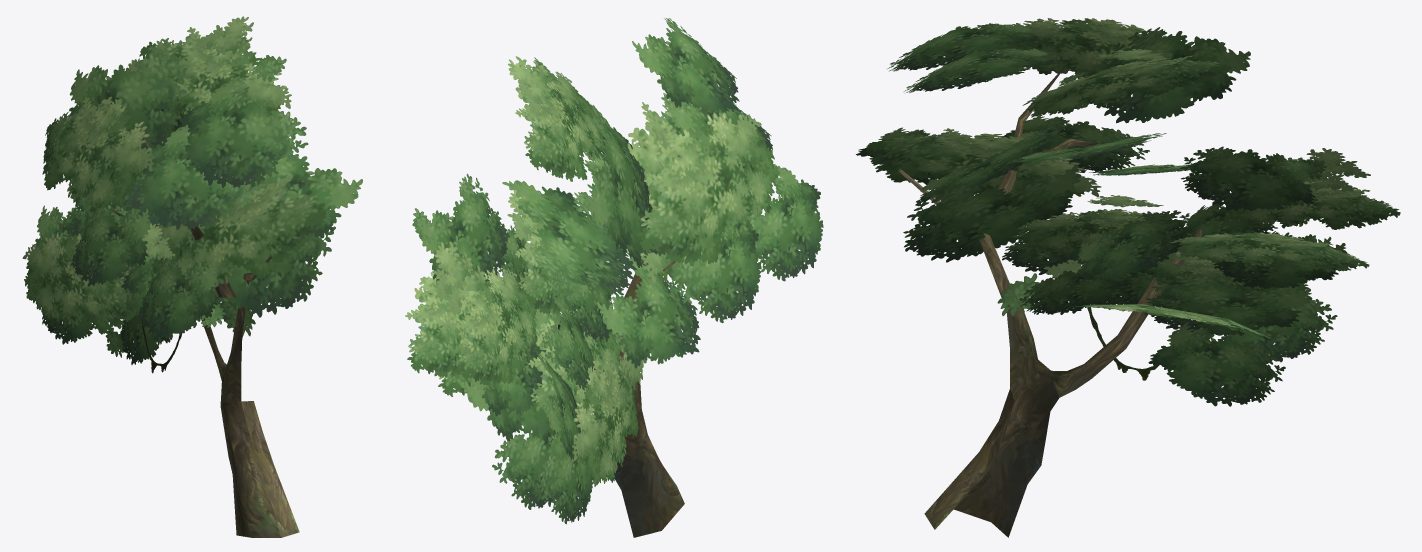
The model's file is zhiwu_29.FBX.
The picture shows the model from 3 angles, left to right: view 1: azimuth 30°, elevation 25°; view 2: azimuth 150°, elevation 25°; view 3: azimuth 270°, elevation 25°; orthographic projection. The views are drawn at different scales.
Parts seen in each view (by area): view 1: zhiwu_14; view 2: zhiwu_14; view 3: zhiwu_14.
Part boxes in pixels (box(x1,y1,x2,y2)): zhiwu_14: box(22, 16, 362, 537); zhiwu_14: box(405, 18, 823, 537); zhiwu_14: box(856, 18, 1400, 537).
Bounding box in the file's own units: 2.12 × 3.9 × 3.75.
